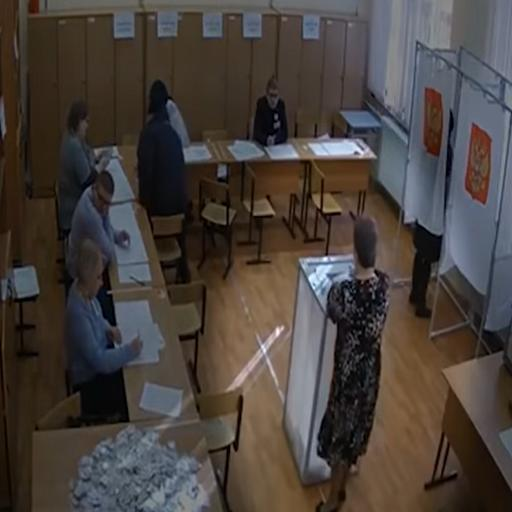Humans: (312, 195, 401, 512), (43, 227, 140, 409), (133, 81, 191, 224), (60, 95, 104, 185), (72, 167, 131, 229), (252, 78, 291, 161)
